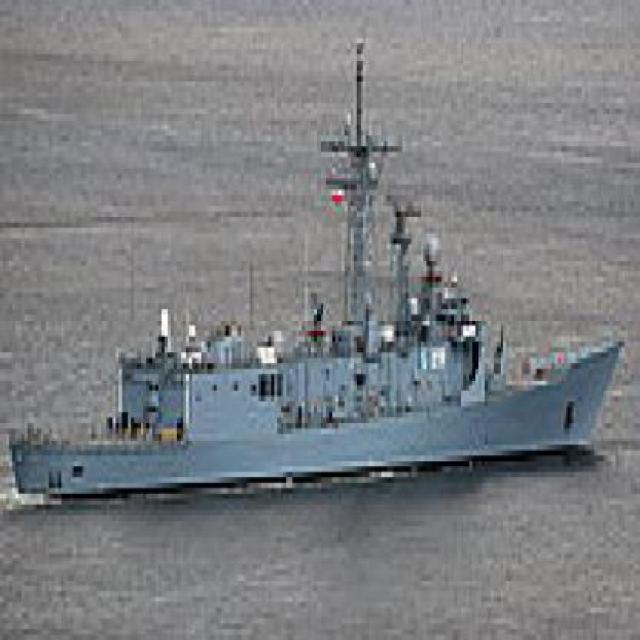warship2: (7, 17, 629, 517)
